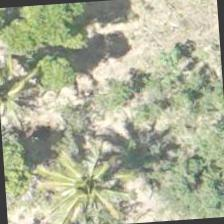Kelapa_Sawit: (30, 141, 127, 223), (0, 43, 51, 137)
